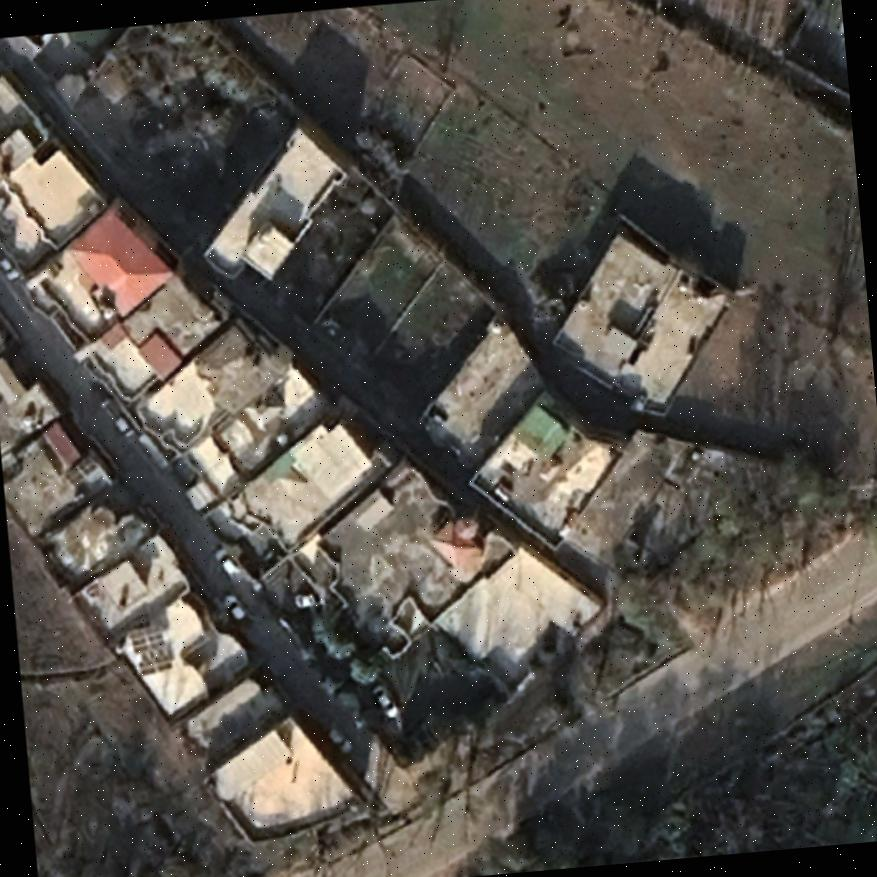Solarpanel: (122, 617, 178, 679)
